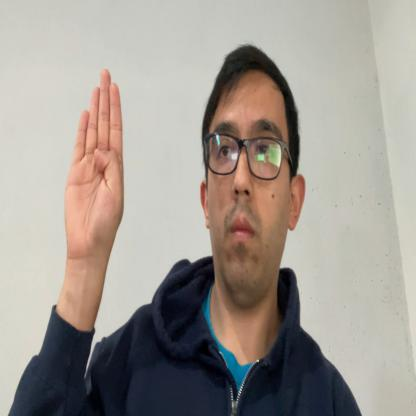B: (64, 68, 126, 263)
